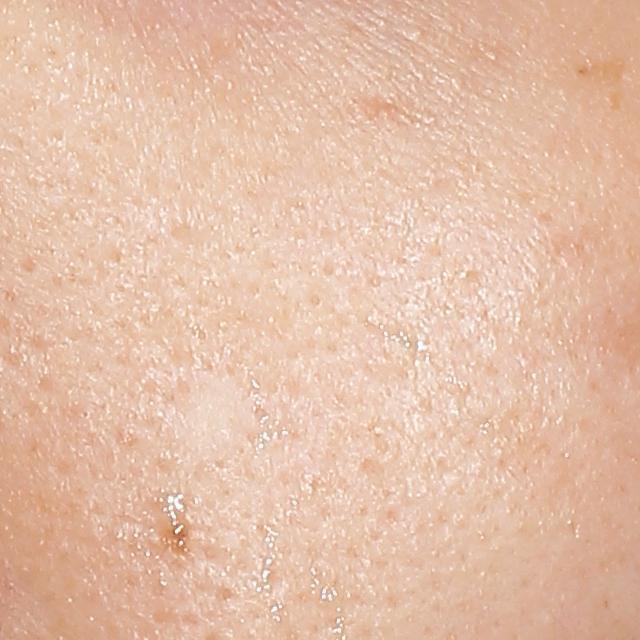melasma: (568, 46, 637, 122), (348, 80, 441, 135)
nevus: (160, 494, 198, 560)
